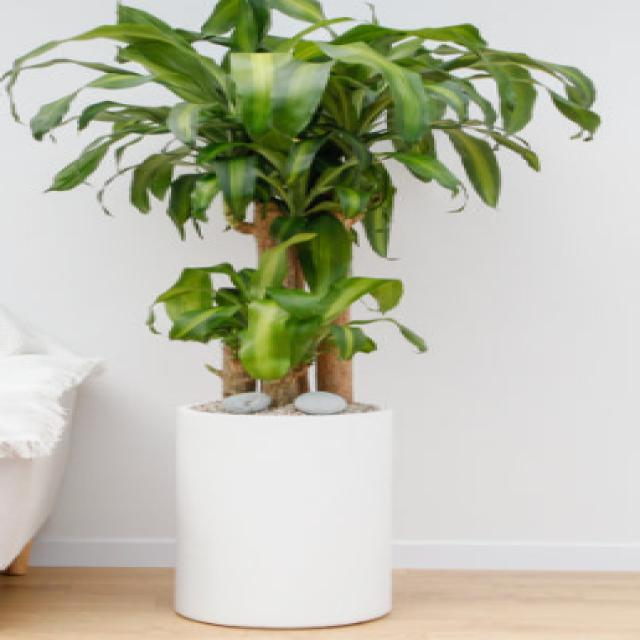Plant Pot: (153, 381, 444, 632)
